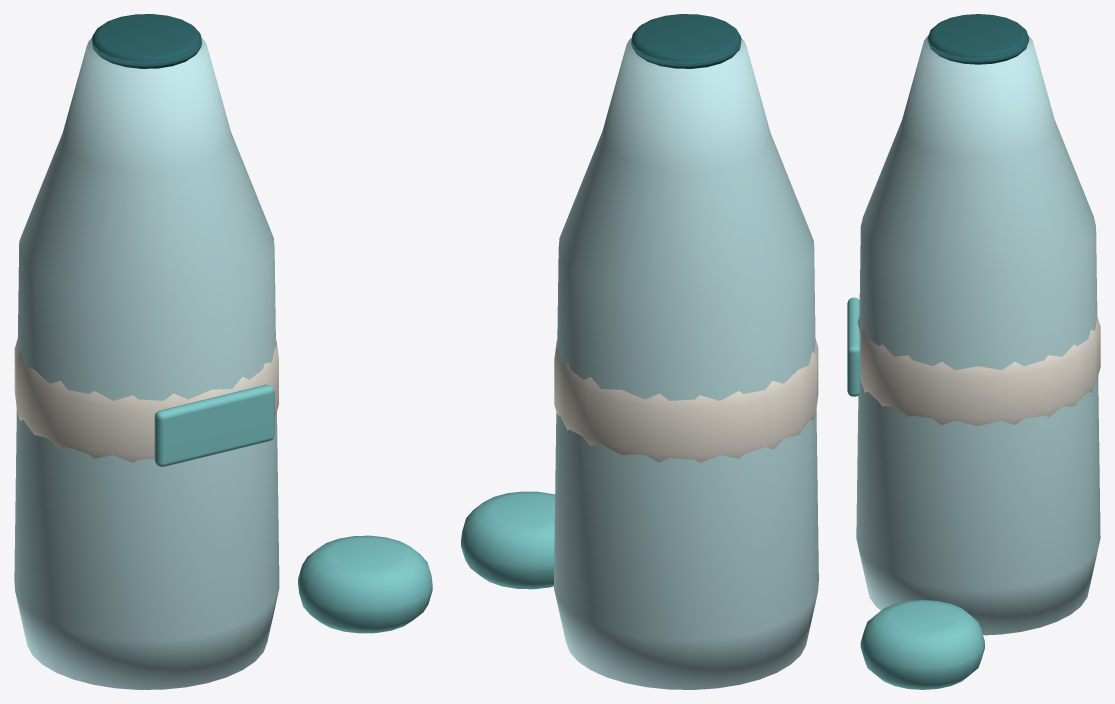
Rendered from Water_Opened.fbx.
3 renders of one model, left to right at view 1: azimuth 30°, elevation 25°; view 2: azimuth 150°, elevation 25°; view 3: azimuth 270°, elevation 25°, orthographic. The views are drawn at different scales.
Visible parts, largest first — view 1: Bottle, Cap, Label, DateMark, ExposedBottleMouth; view 2: Bottle, Label, Cap, ExposedBottleMouth; view 3: Bottle, Label, Cap, ExposedBottleMouth, DateMark.
Boxes of the visible parts, box(x1,y1,x2,y2) form: Bottle: box(14, 37, 279, 689); Cap: box(298, 535, 432, 633); Label: box(14, 339, 278, 462); DateMark: box(154, 384, 274, 466); ExposedBottleMouth: box(91, 14, 201, 68); Bottle: box(554, 37, 818, 689); Label: box(554, 338, 818, 462); Cap: box(461, 491, 554, 589); ExposedBottleMouth: box(631, 14, 741, 68); Bottle: box(856, 35, 1100, 635); Label: box(857, 316, 1100, 425); Cap: box(860, 600, 984, 689); ExposedBottleMouth: box(927, 14, 1029, 64); DateMark: box(847, 297, 860, 396).
Size of the model in its own units: 17.3 by 27.6 by 11.4.
